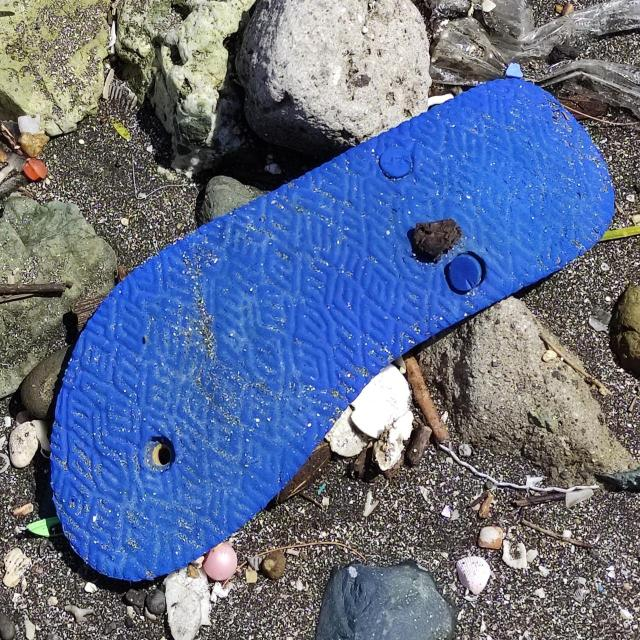rubber_waste: (46, 75, 621, 587)
